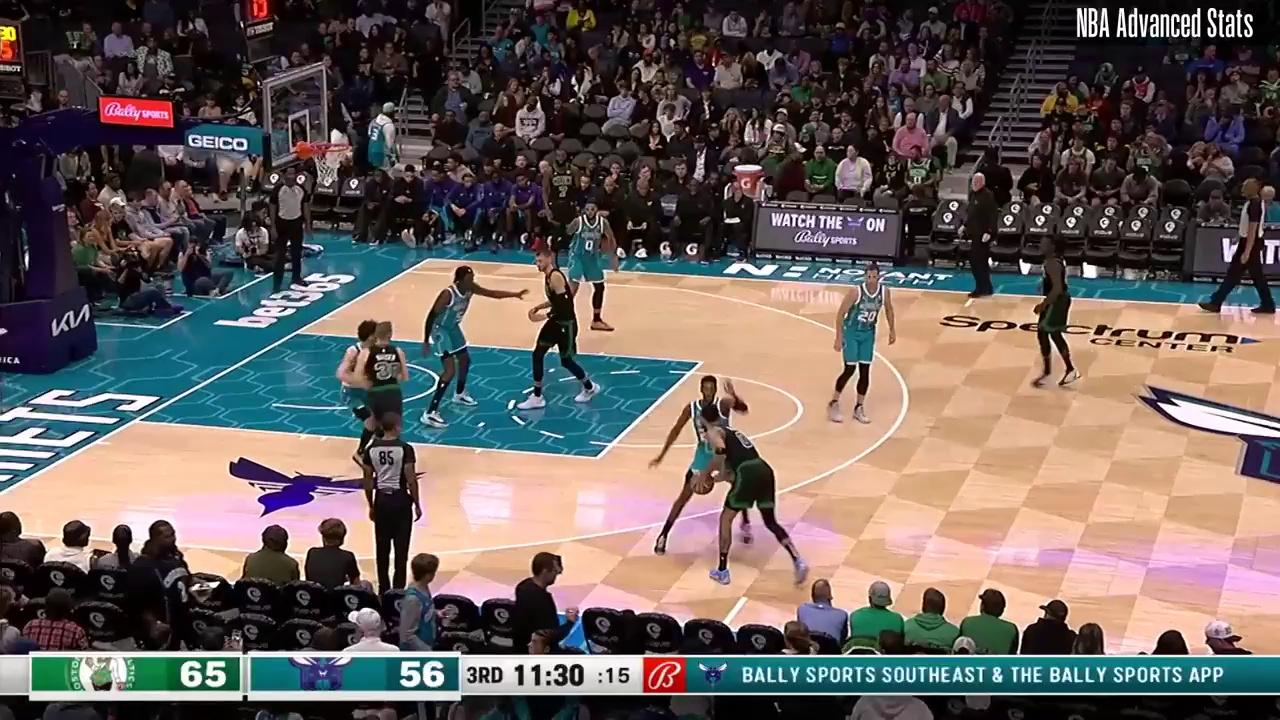3_dx: (402, 267, 412, 276)
b_dx: (423, 255, 432, 264)
free_adx: (694, 358, 705, 367)
free_asx: (590, 452, 602, 464)
free_bdx: (289, 328, 302, 339)
free_bsx: (130, 414, 144, 428)
mid_dx: (963, 303, 969, 309)
mid_sx: (739, 591, 750, 603)
referee: (1198, 176, 1276, 323), (361, 413, 424, 588), (269, 168, 311, 296)
team: (699, 402, 808, 583), (524, 247, 596, 407), (1031, 231, 1082, 387), (357, 322, 409, 465), (538, 150, 584, 272)
team1: (652, 371, 752, 555), (420, 265, 523, 427), (829, 265, 897, 425), (564, 203, 618, 334), (338, 320, 383, 476)
timer: (512, 655, 587, 694)
